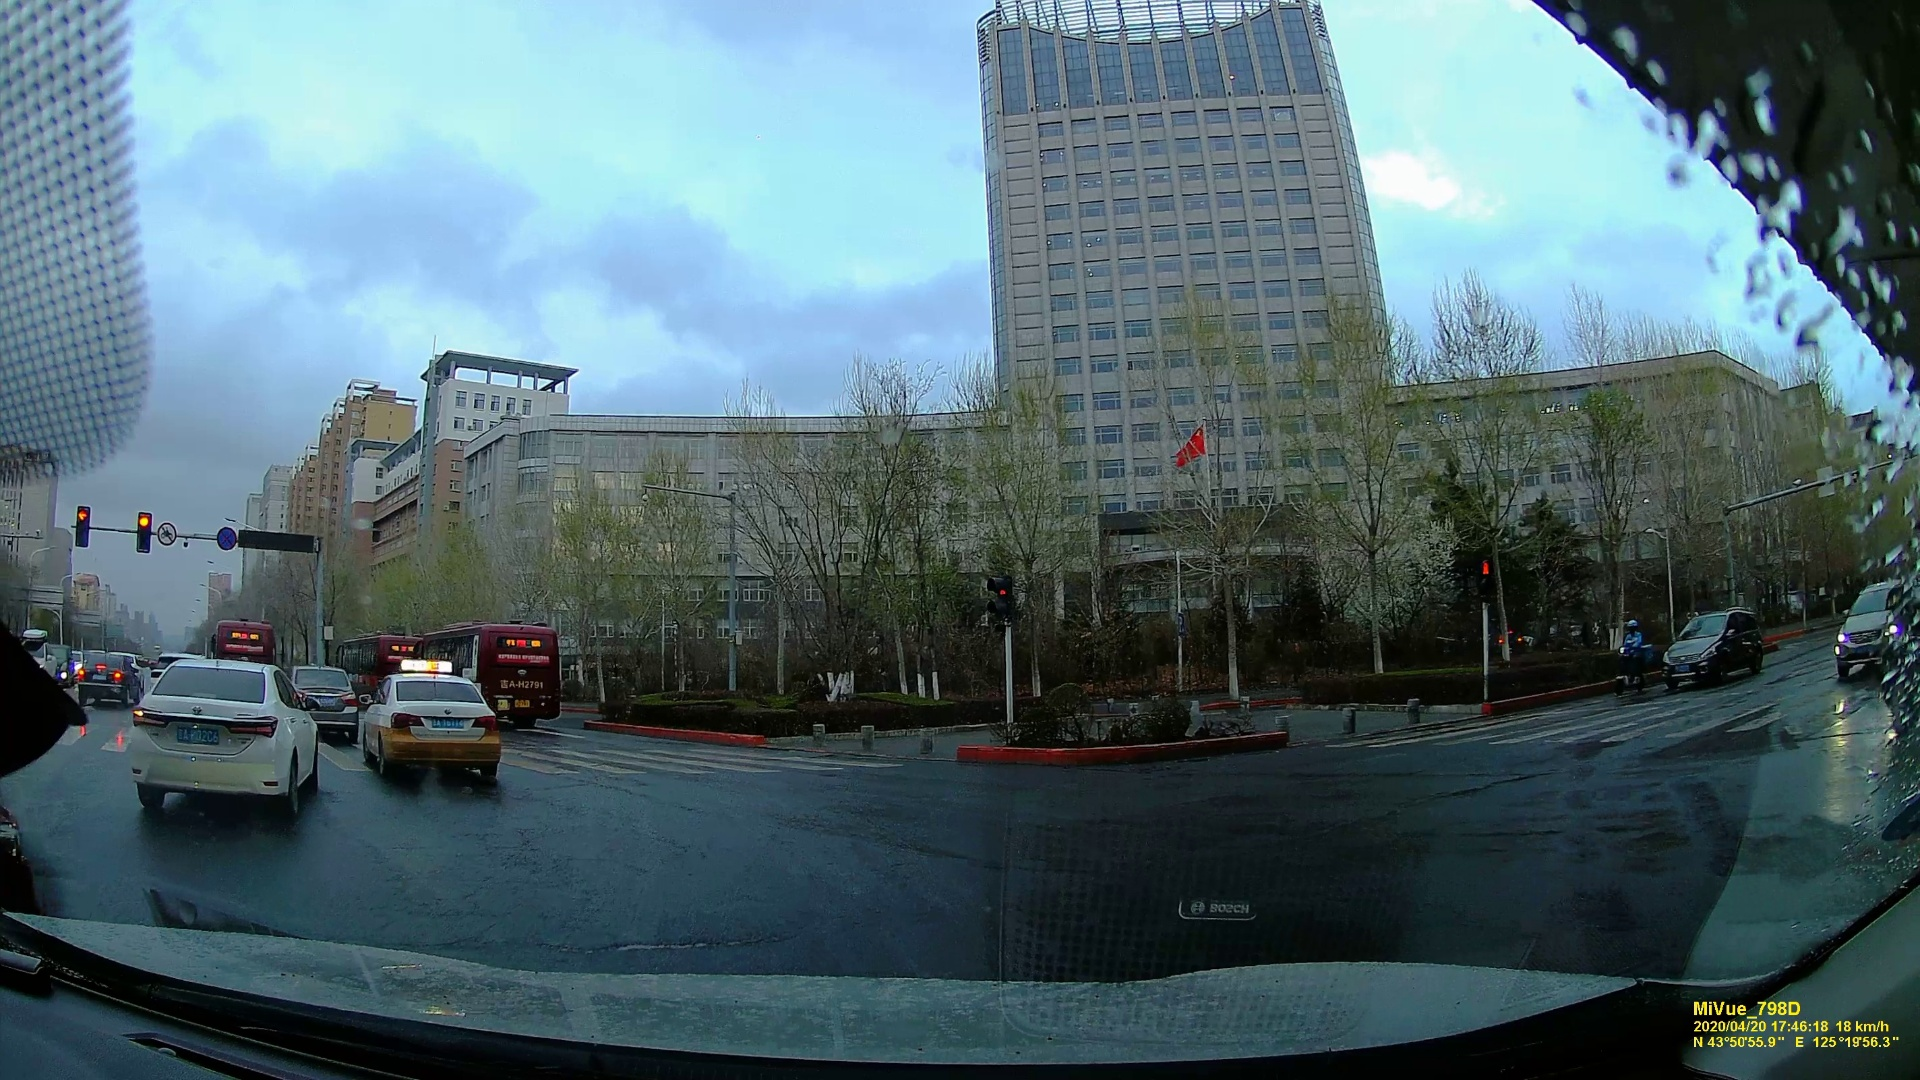bus: (419, 624, 564, 727), (207, 617, 274, 665)
traffic_sign: (985, 574, 1011, 618), (73, 505, 90, 547), (214, 525, 239, 553), (136, 512, 152, 553), (156, 522, 178, 546)
vehicle: (131, 659, 316, 818), (363, 675, 498, 789), (1664, 609, 1764, 684), (1836, 589, 1902, 680), (78, 650, 141, 705)
